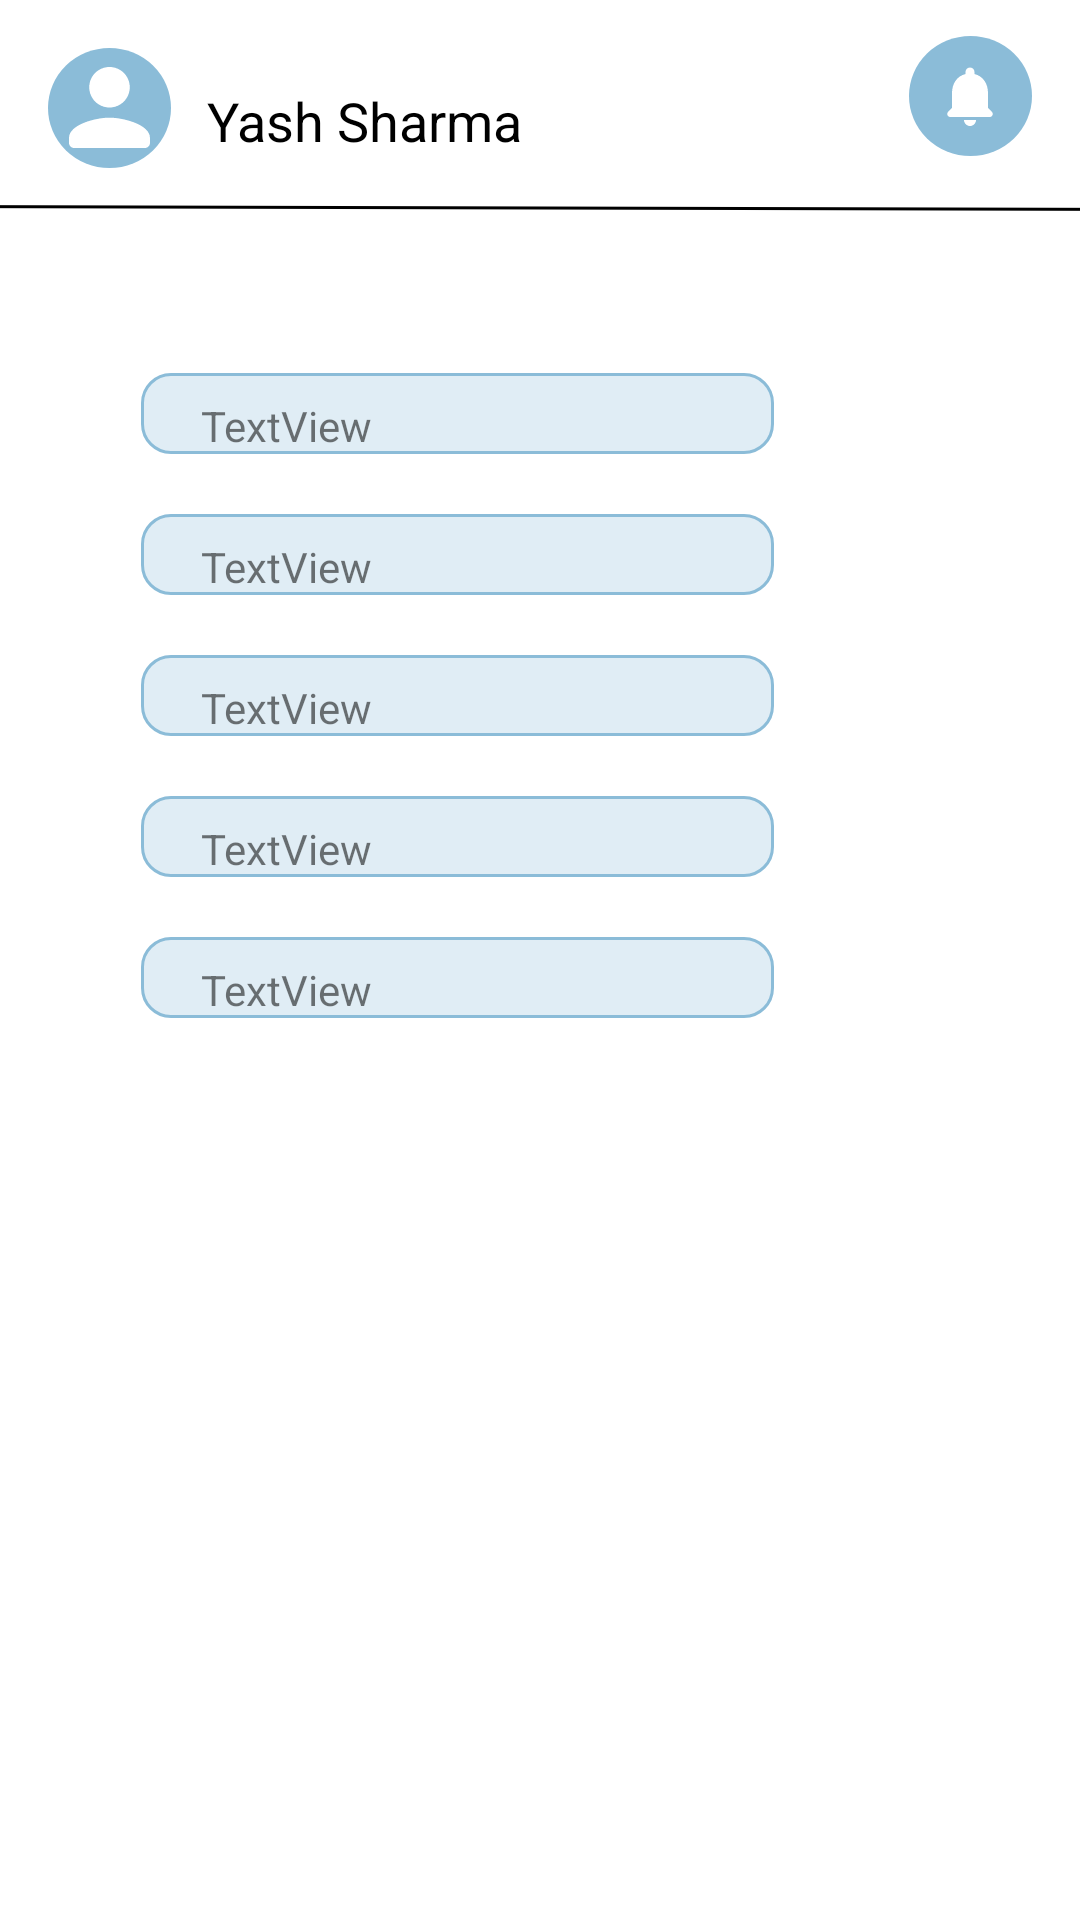

Where icons sit on this 1080w x 1920h app screen, as (x1, y1, x2, y2):
notification: (909, 36, 1032, 156)
profile: (48, 48, 171, 168)
